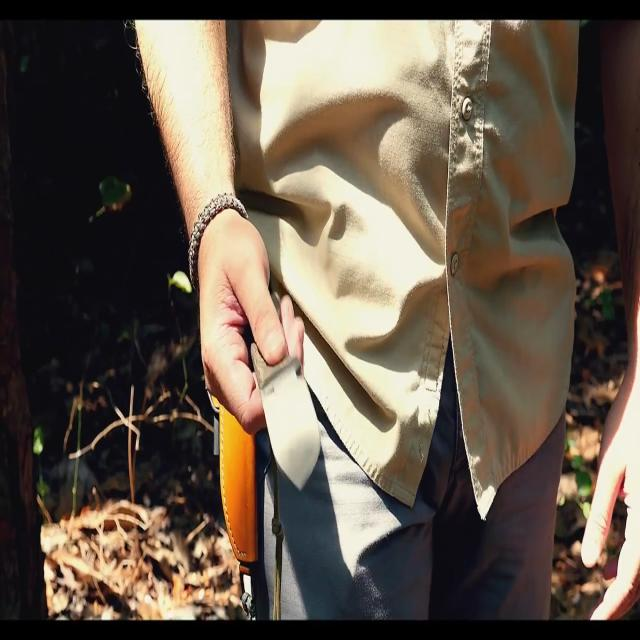knife: (259, 361, 326, 493)
